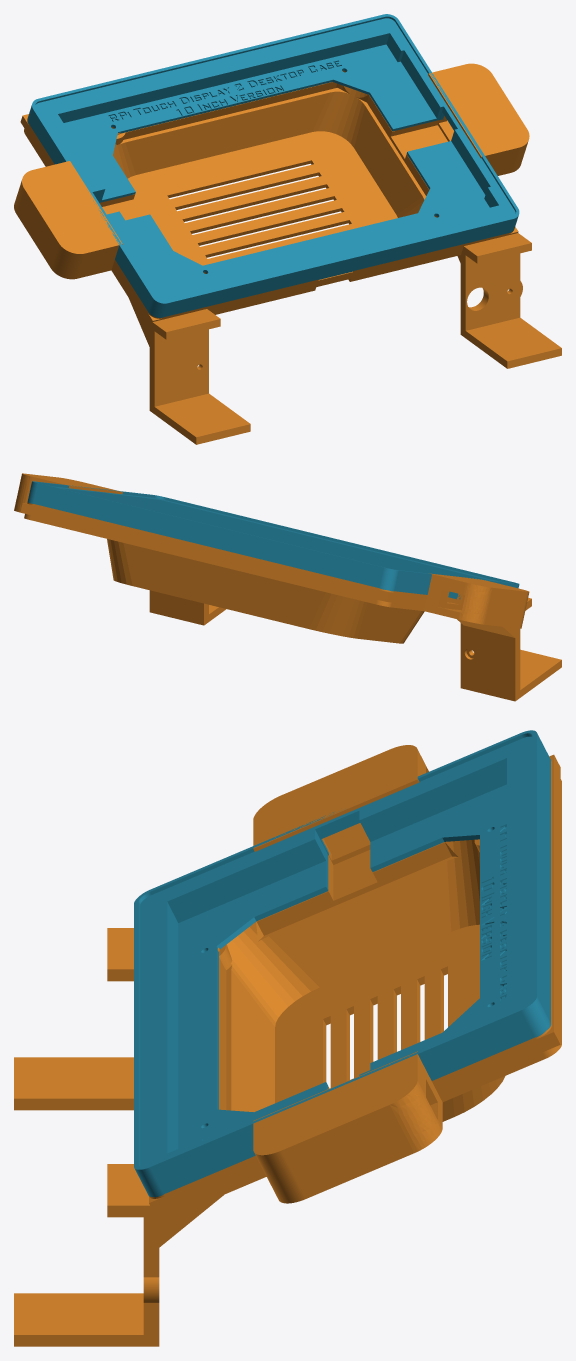
Rendered from piflex-codex-v36-coloured-inspection.glb.
3 views of the same model, one above another, from view 1: azimuth 30°, elevation 25°; view 2: azimuth 150°, elevation 25°; view 3: azimuth 270°, elevation 25° (orthographic). The views are drawn at different scales.
Parts seen in each view (by area): view 1: V36 rear enclosure and mount, V36 blue screen shell; view 2: V36 rear enclosure and mount, V36 blue screen shell; view 3: V36 rear enclosure and mount, V36 blue screen shell.
Part boxes in pixels (x1,y1,x2,y2): V36 rear enclosure and mount: (14, 63, 561, 444); V36 blue screen shell: (27, 14, 519, 317); V36 rear enclosure and mount: (14, 473, 561, 701); V36 blue screen shell: (27, 481, 519, 599); V36 rear enclosure and mount: (14, 745, 561, 1346); V36 blue screen shell: (134, 730, 550, 1197).
Bounding box in the file's own units: 324 × 146 × 211.
